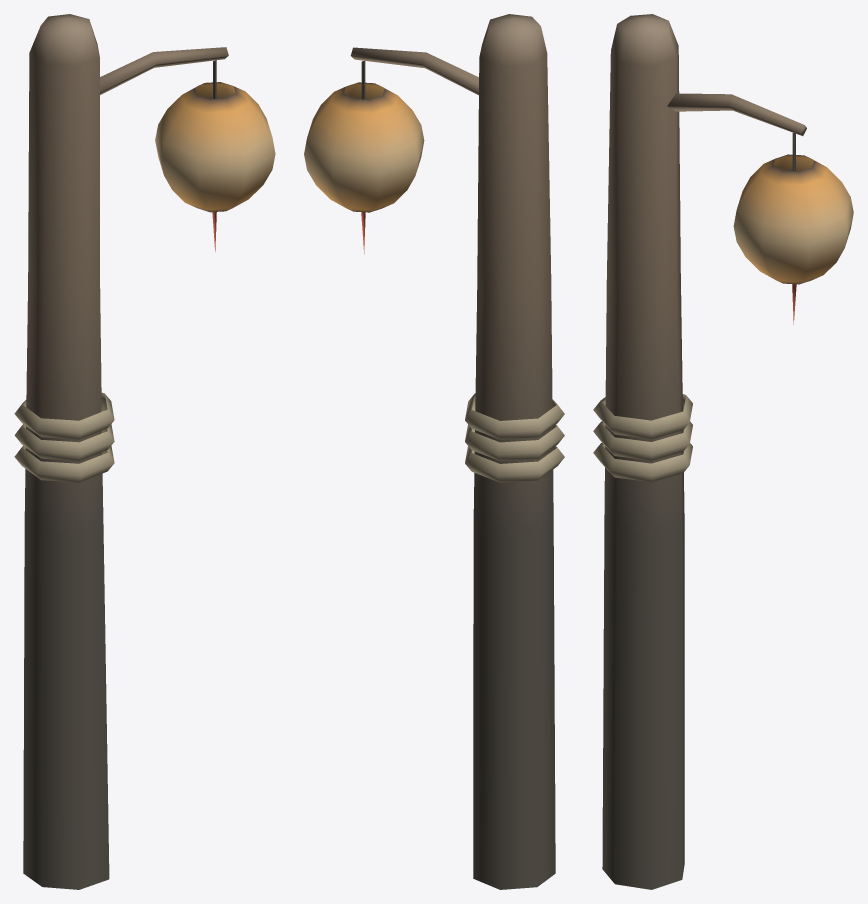
Rendered from east_moorpost.glb.
3 views of the same model, side by side, from view 1: azimuth 30°, elevation 25°; view 2: azimuth 150°, elevation 25°; view 3: azimuth 330°, elevation 25° (orthographic).
Parts seen in each view (by area): view 1: east_moorpost; view 2: east_moorpost; view 3: east_moorpost.
Part boxes in pixels (x1,y1,x2,y2): east_moorpost: (14,14,275,889); east_moorpost: (304,14,564,889); east_moorpost: (593,14,853,889).
Bounding box in the file's own units: 0.9477 × 3.17 × 0.42.
